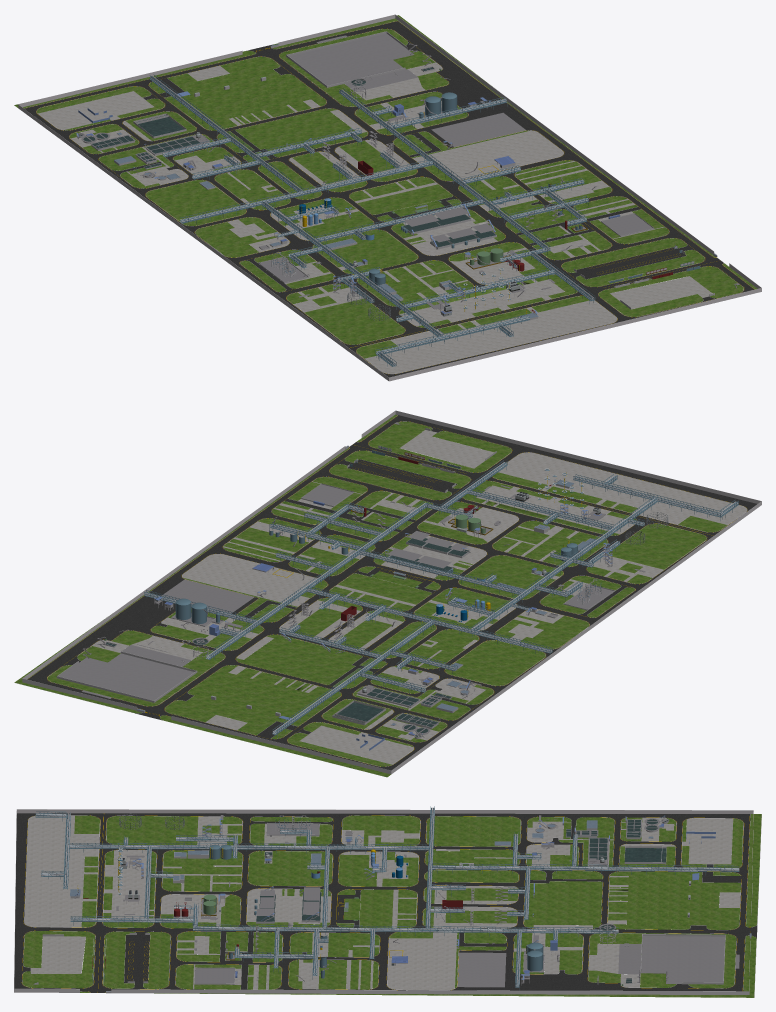
The model's file is factory.glb.
3 renders of one model, top to bottom at view 1: azimuth 30°, elevation 25°; view 2: azimuth 150°, elevation 25°; view 3: azimuth 270°, elevation 25°, orthographic.
Visible parts, largest first — view 1: Factory; view 2: Factory; view 3: Factory.
Part boxes in pixels (box(x1,y1,x2,y2)): Factory: box(14, 14, 761, 381); Factory: box(14, 410, 761, 777); Factory: box(14, 806, 761, 997).
Size of what is drawn, in the model's own units: 417 by 36.5 by 713.
Materials: 27 (19 with a texture image).
